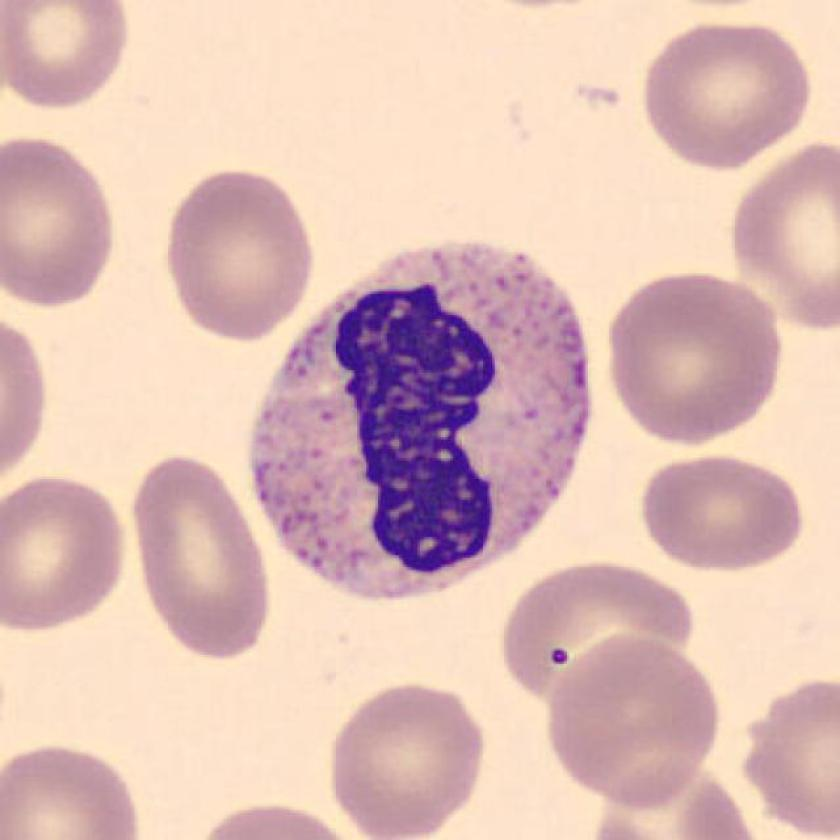neutrophil: (249, 244, 589, 597)
